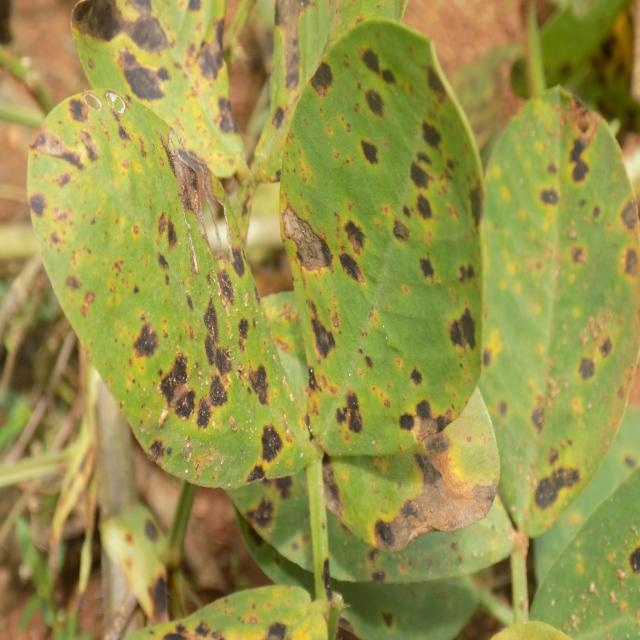Ground nut_tikka leaf spot: (31, 95, 308, 478), (266, 13, 479, 464), (476, 76, 640, 539)
